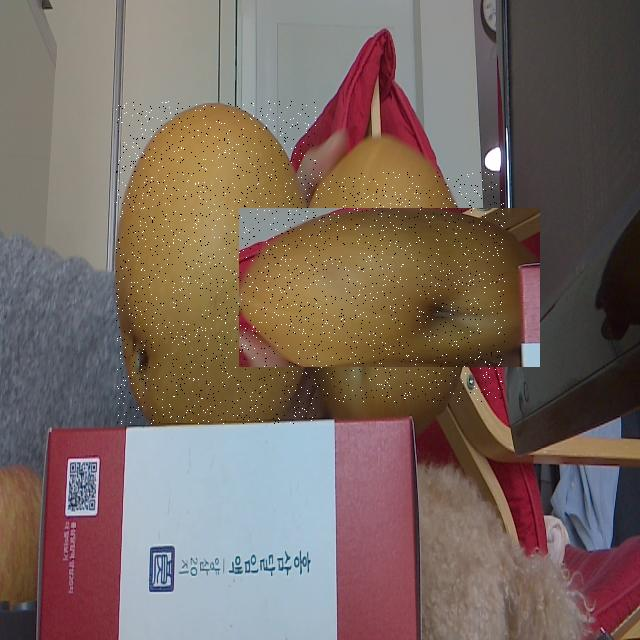pear: (116, 101, 316, 424), (275, 172, 505, 403)
